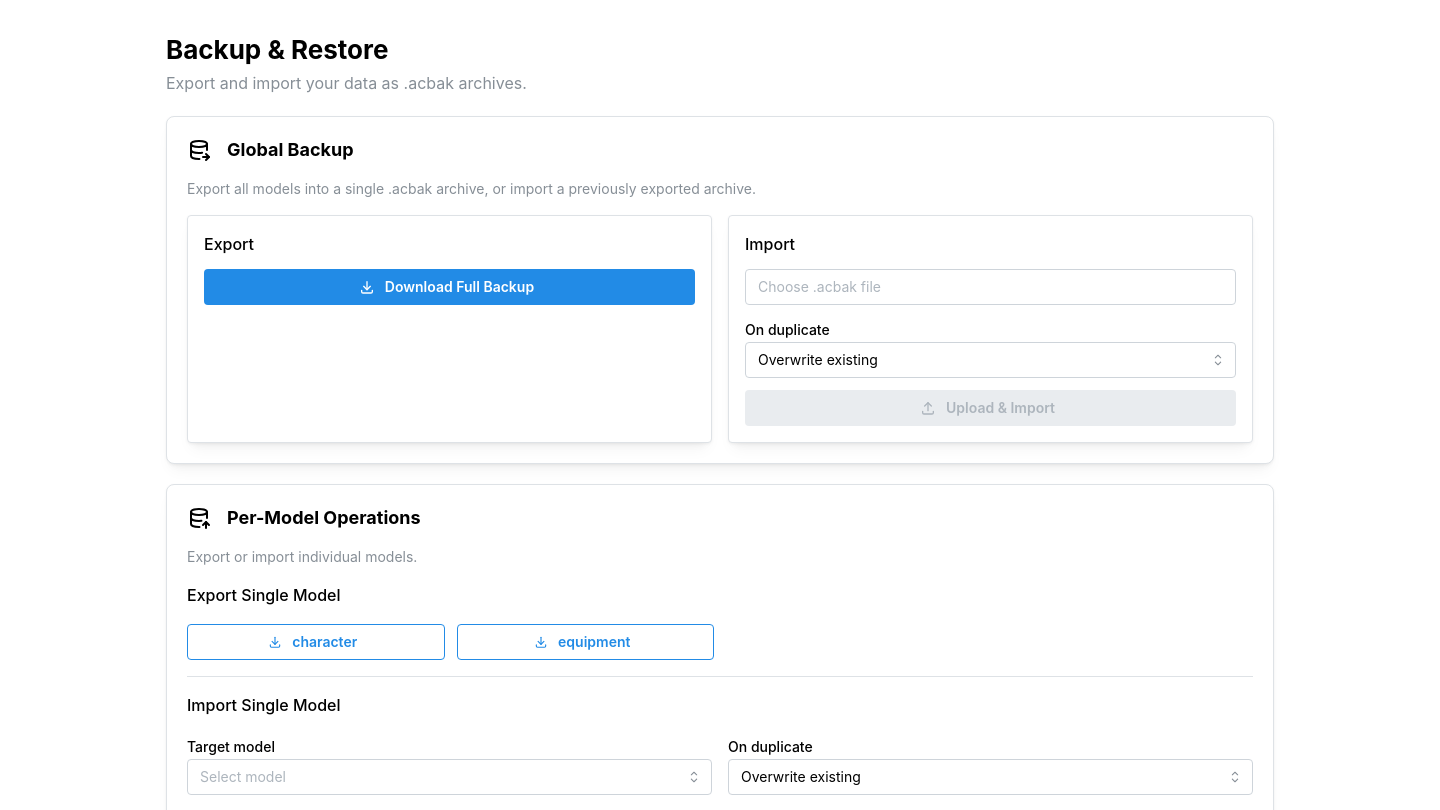
Scenario: BackupRestore › handles global export error with message fallback
Click the button "Download Full Backup" at (450, 287), box [204,269,695,305]
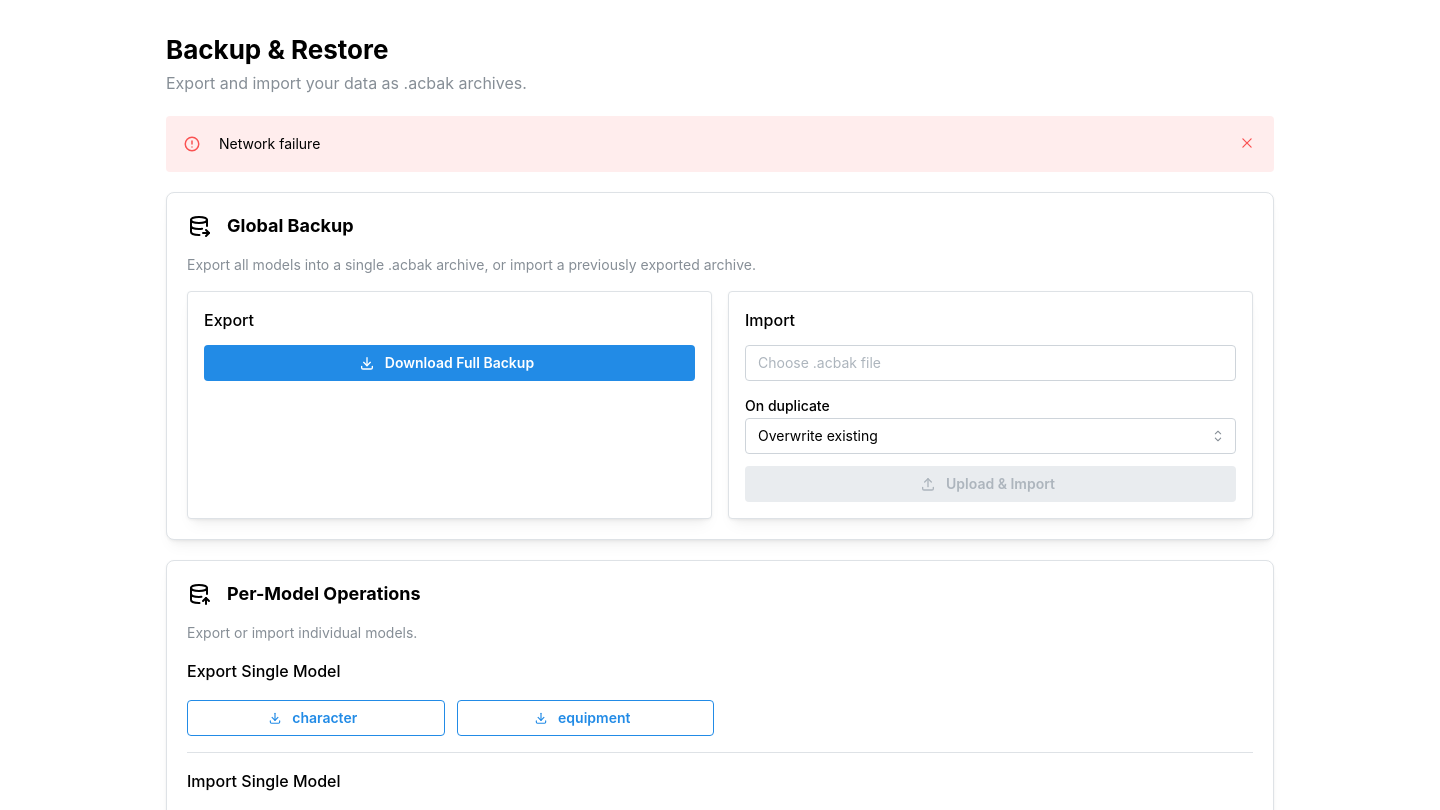
Check: the text "Network failure" is shown, box [219,135,320,152]
